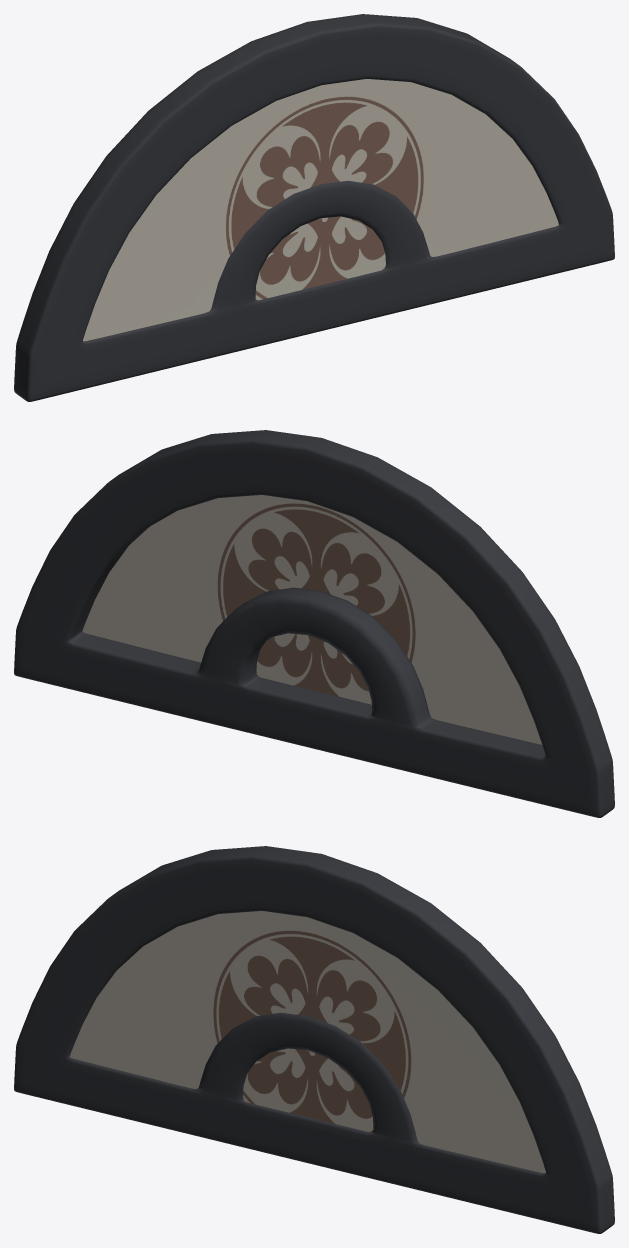
The model's file is ElevatorIndicator_FBX.fbx.
3 views of the same model, one above another, from view 1: azimuth 30°, elevation 25°; view 2: azimuth 150°, elevation 25°; view 3: azimuth 330°, elevation 25° (orthographic).
Parts seen in each view (by area): view 1: Cylinder; view 2: Cylinder; view 3: Cylinder.
Boxes of the visible parts, box(x1,y1,x2,y2) form: Cylinder: box(14, 14, 614, 401); Cylinder: box(14, 430, 614, 817); Cylinder: box(14, 846, 614, 1233).
Size of the model in its own units: 88.76 by 43.29 by 4.1.
